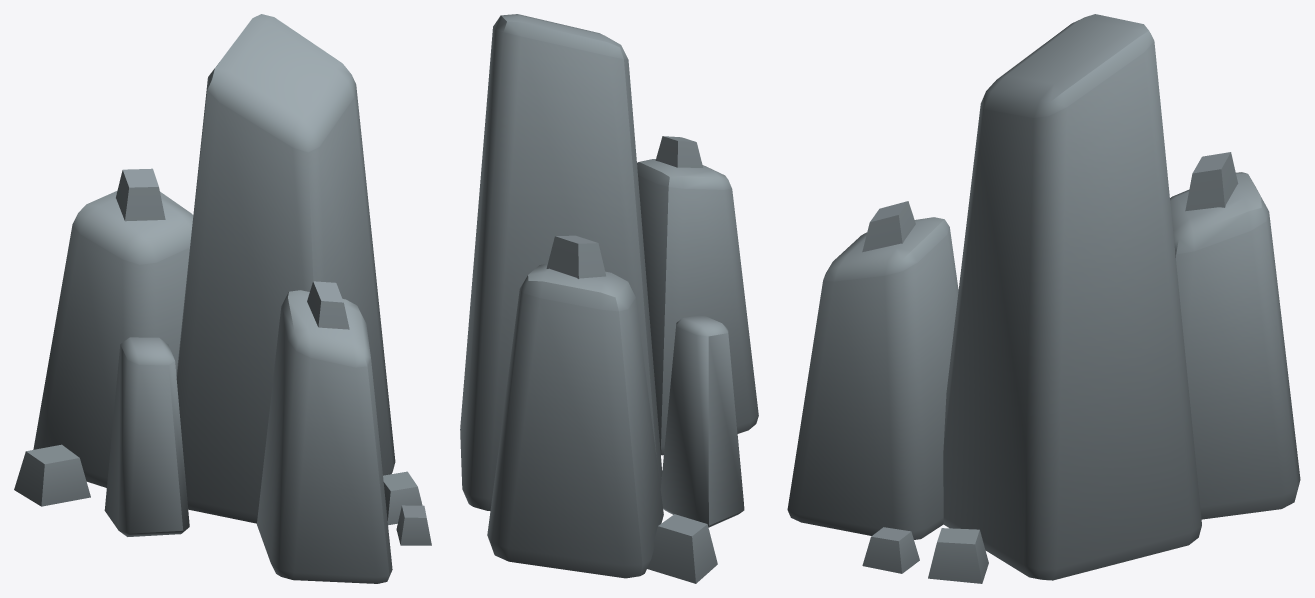
Rendered from Rock_4_E_Color1.gltf.
3 renders of one model, left to right at view 1: azimuth 30°, elevation 25°; view 2: azimuth 150°, elevation 25°; view 3: azimuth 270°, elevation 25°, orthographic. The views are drawn at different scales.
Visible parts, largest first — view 1: Rock_4_E_Color1; view 2: Rock_4_E_Color1; view 3: Rock_4_E_Color1.
Part boxes in pixels (x1=…): Rock_4_E_Color1: x1=14, y1=14, x2=431, y2=583; Rock_4_E_Color1: x1=460, y1=14, x2=758, y2=583; Rock_4_E_Color1: x1=787, y1=14, x2=1300, y2=583.
Size of the model in its own units: 1.93 by 2.79 by 2.53.
Materials: 1 (1 with a texture image).
